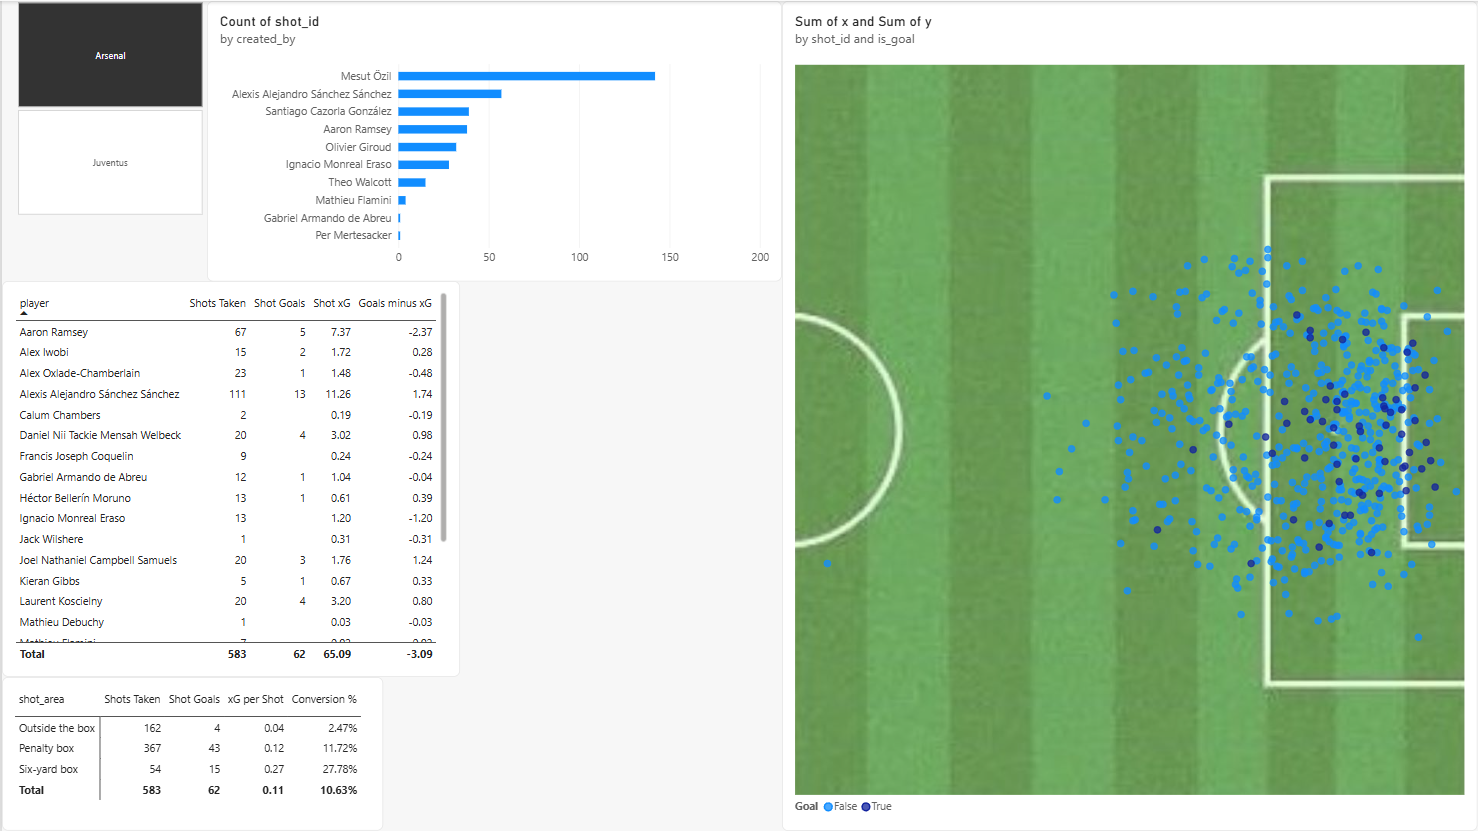

The dashboard page shown, as its layout file describes it:
{"tool":"powerbi","page":{"name":"Shots","canvas":[1920,1080],"ordinal":1},"visuals":[{"type":"slicer","fields":{"Values":["Teams.team"]},"box":[0,0,280,280],"z":0},{"type":"scatterChart","fields":{"Category":["shots.shot_id"],"Series":["shots.is_goal"],"X":["Sum(shots.x)"],"Y":["Sum(shots.y)"]},"box":[1015.4,0,904.6,1079.6],"z":1000},{"type":"pivotTable","fields":{"Rows":["shots.shot_area"],"Values":["team_matches.Shots Taken","shots.Shot Goals","team_matches.xG per Shot","team_matches.Conversion %"]},"box":[0,879.6,496,199.9],"z":2000},{"type":"tableEx","fields":{"Values":["shots.player","team_matches.Shots Taken","shots.Shot Goals","shots.Shot xG","shots.Goals minus xG"]},"box":[0,364.3,596,515.3],"z":3000},{"type":"barChart","fields":{"Category":["shots.created_by"],"Y":["CountNonNull(shots.shot_id)"]},"box":[267,0,748.4,364.7],"z":4000}]}

Visuals, with their boxes in screenshot pixels (x1, y1, x2, y2), scaled from the page's 1920x1080 canvas onto the 1478x831 screenshot:
slicer - Teams.team: bbox(0, 0, 216, 215)
scatterChart - shots.shot_id x shots.is_goal: bbox(782, 0, 1477, 830)
pivotTable - shots.shot_area x team_matches.Shots Taken: bbox(0, 677, 382, 830)
tableEx - shots.player x team_matches.Shots Taken: bbox(0, 280, 459, 677)
barChart - shots.created_by x CountNonNull(shots.shot_id): bbox(206, 0, 782, 281)
